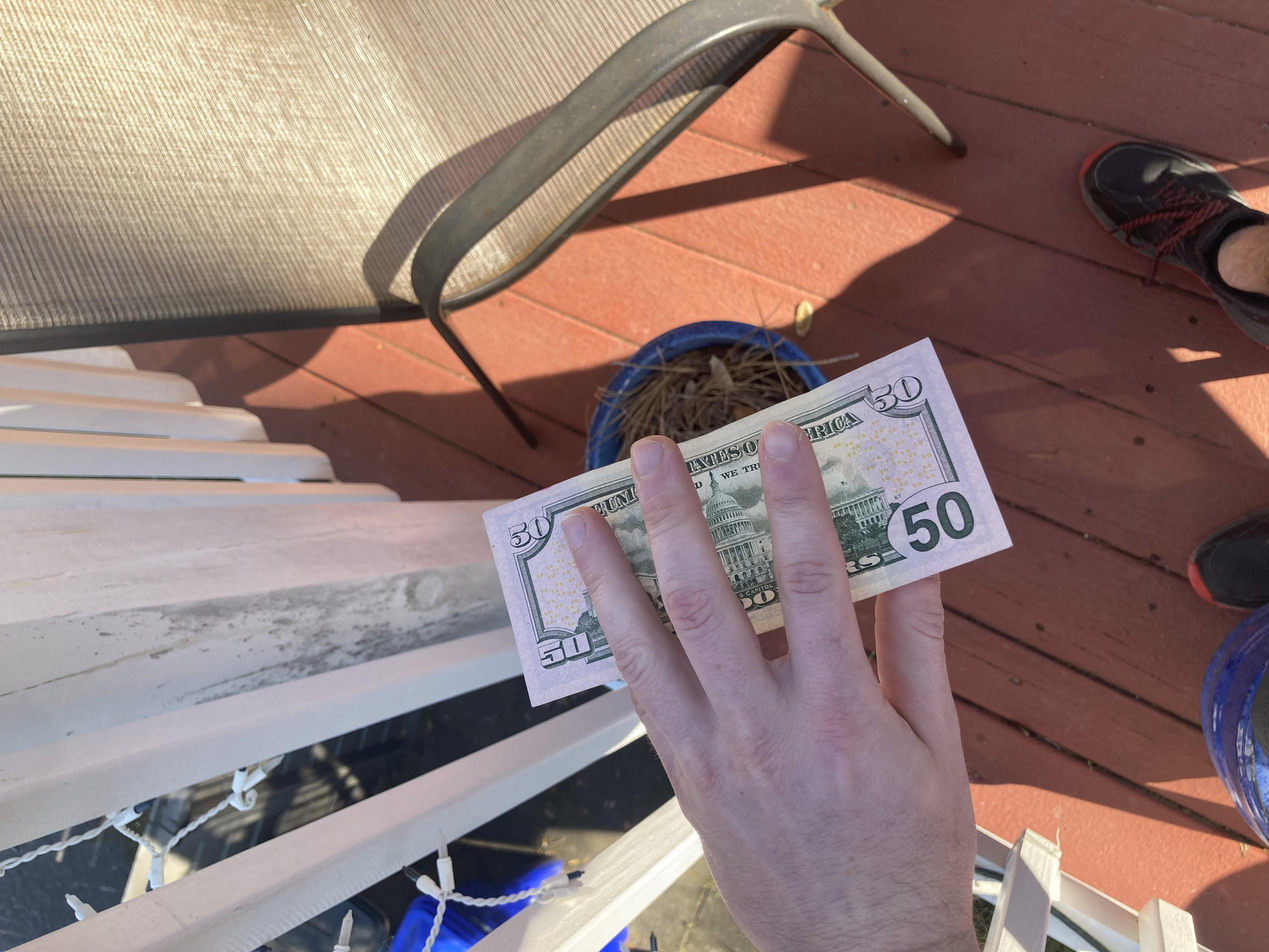fifty-back: (323, 363, 818, 762)
